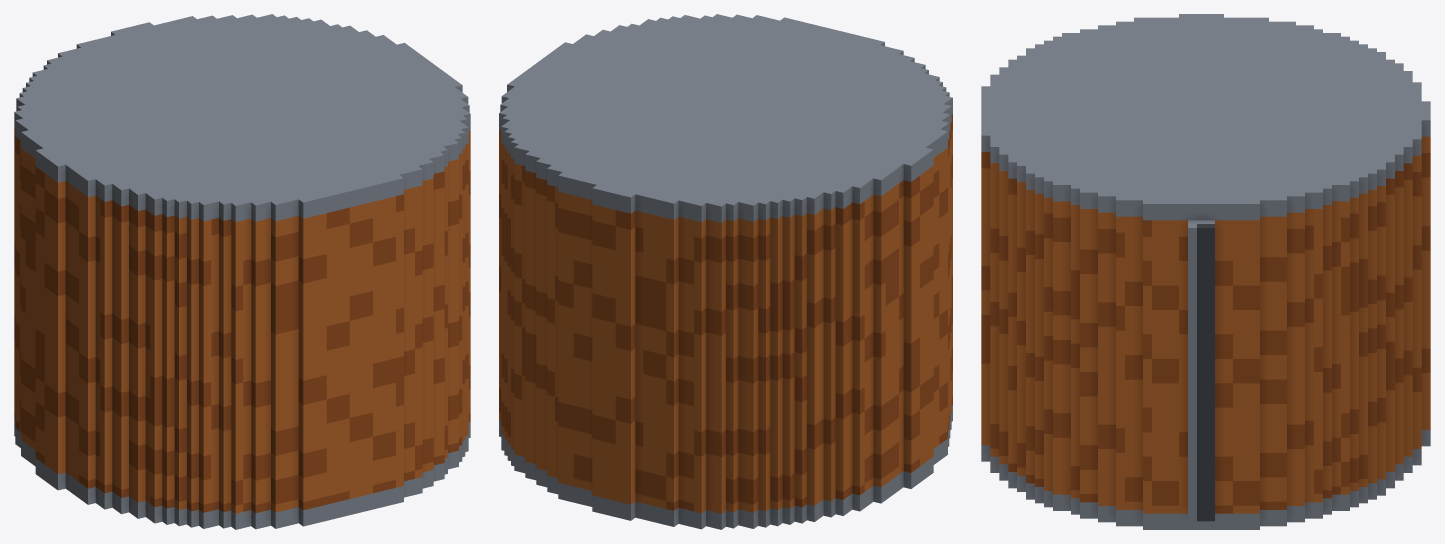
Rendered from tank_hydrolox_m2.glb.
3 views of the same model, side by side, from view 1: azimuth 30°, elevation 25°; view 2: azimuth 150°, elevation 25°; view 3: azimuth 270°, elevation 25° (orthographic).
Parts seen in each view (by area): view 1: tank_hydrolox_m2; view 2: tank_hydrolox_m2; view 3: tank_hydrolox_m2.
Boxes of the visible parts, bbox=[...] form: tank_hydrolox_m2: bbox=[14, 14, 470, 529]; tank_hydrolox_m2: bbox=[499, 14, 952, 529]; tank_hydrolox_m2: bbox=[981, 14, 1430, 529].
Bounding box in the file's own units: 2.6 × 2 × 2.5.
